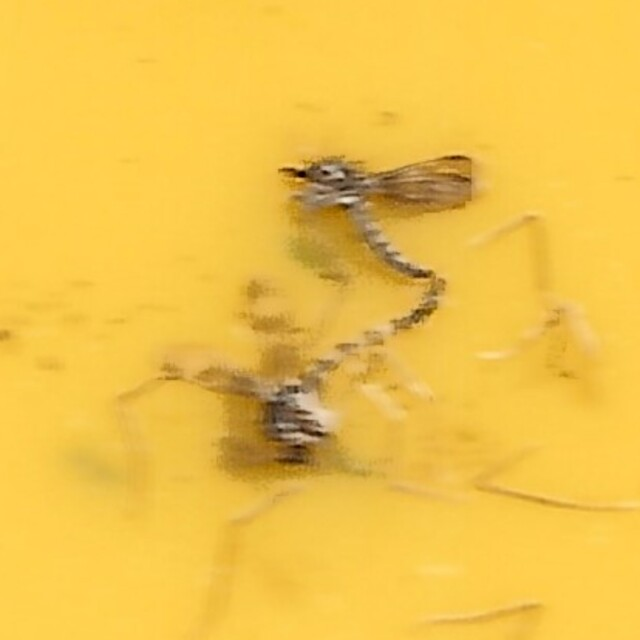Nematocera: (155, 277, 454, 493), (283, 147, 485, 301)
